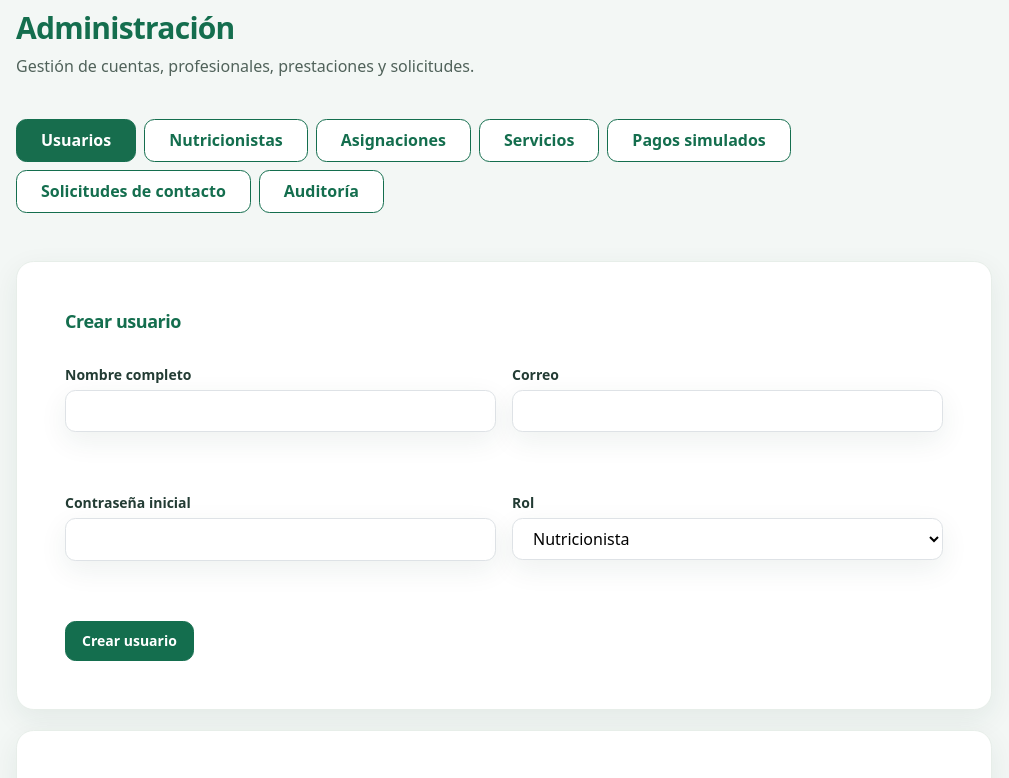
Administración: edición, asignaciones y pagos › lista pagos simulados y anula solo los aprobados
Click the tab "Pagos simulados".
click(699, 140)  # box [607,119,791,162]
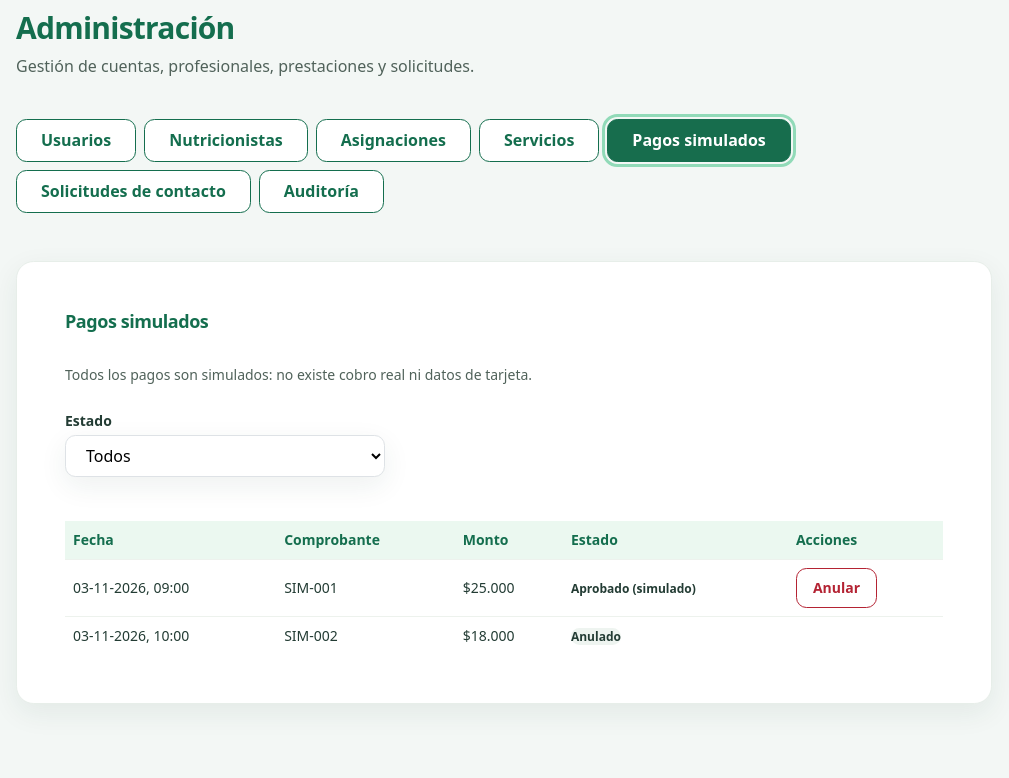
Check: the text "SIM-002" is shown, box [276,616,455,655]
Check: the number of buttons named "Anular pago" is 1
Click the button with aria-label "Anular pago SIM-001".
click(836, 588)  # box [796,568,877,608]
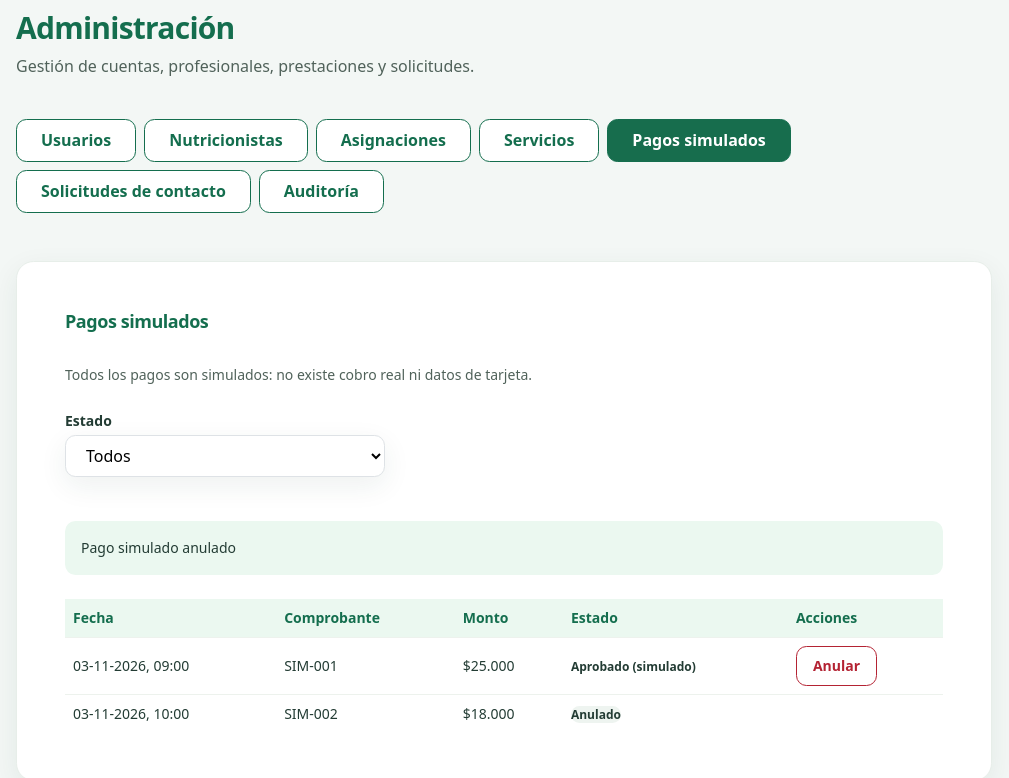
Check: the text "Pago simulado anulado" is shown, box [65,521,943,575]
